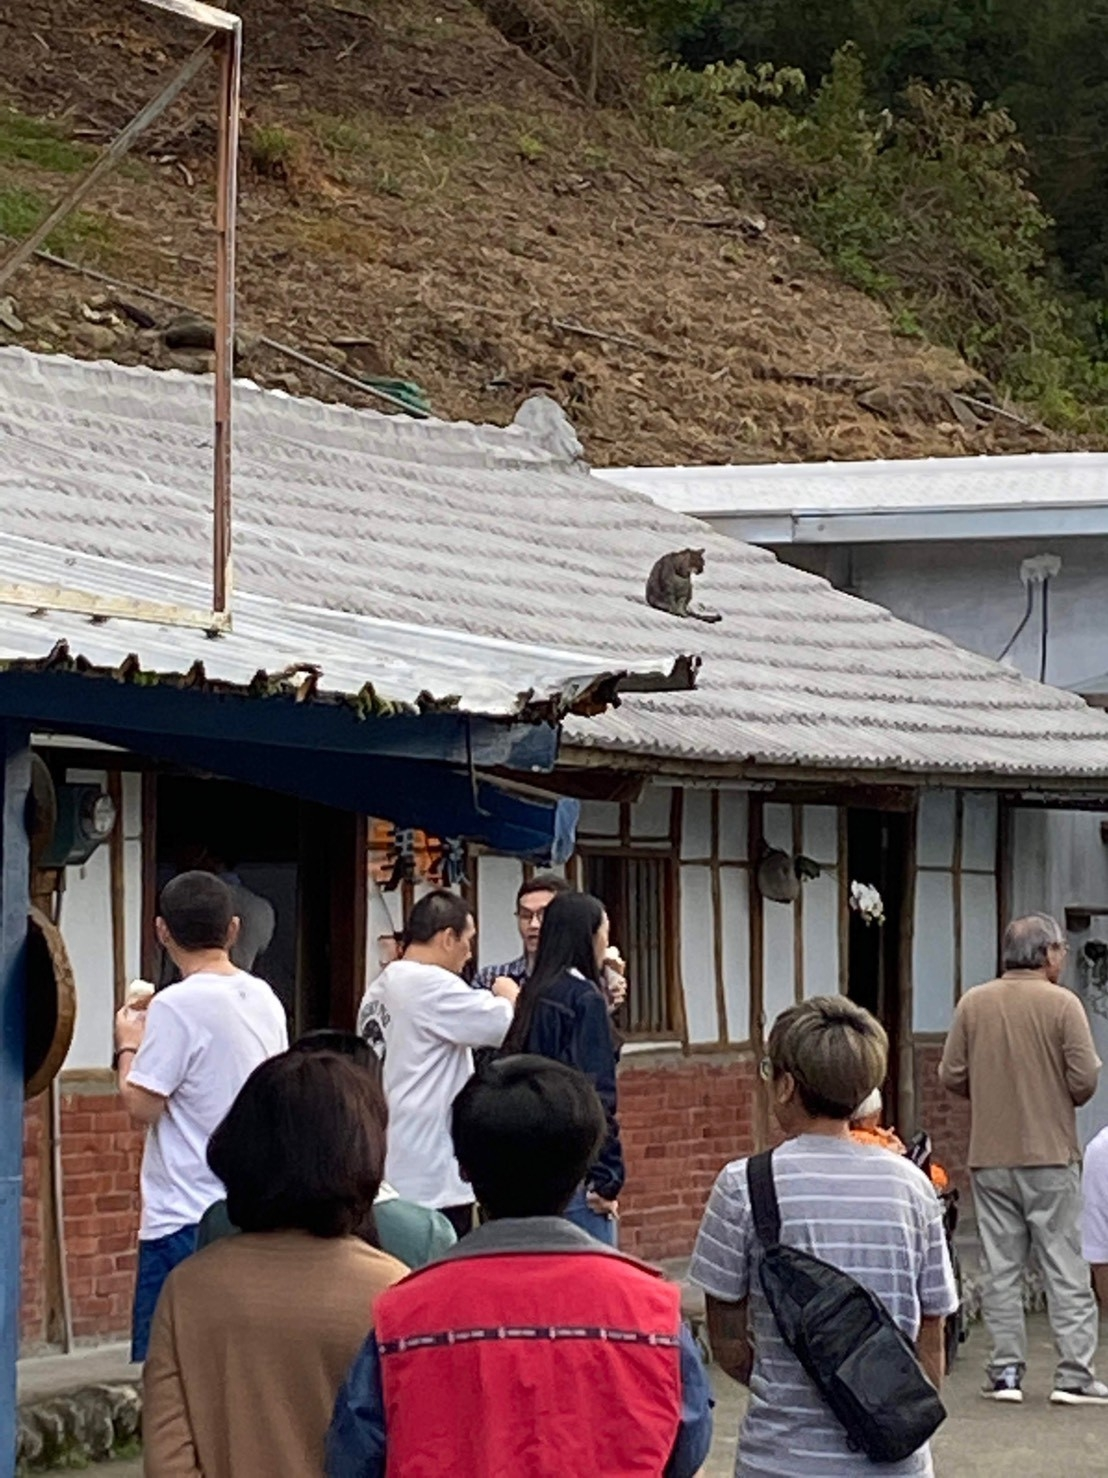people: (397, 1050, 664, 1478), (738, 993, 936, 1476), (214, 1057, 405, 1478), (962, 909, 1108, 1409), (136, 866, 247, 1383), (526, 893, 640, 1245), (376, 888, 478, 1238), (490, 873, 578, 1088)
